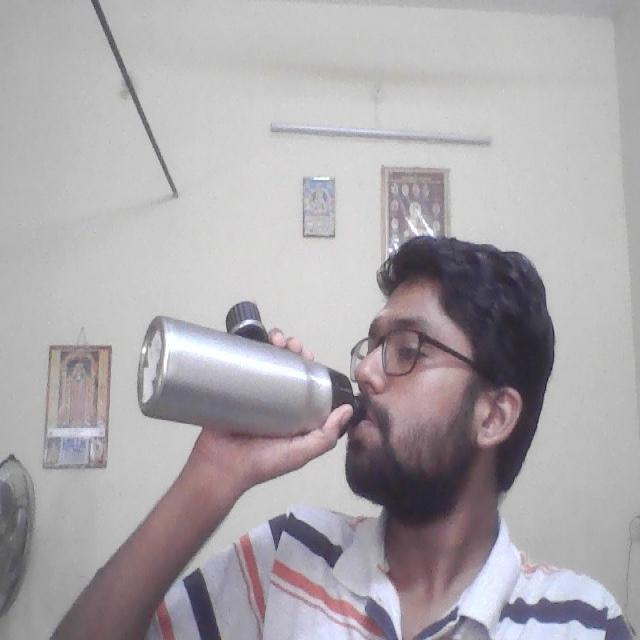Drinking: (133, 291, 368, 439)
